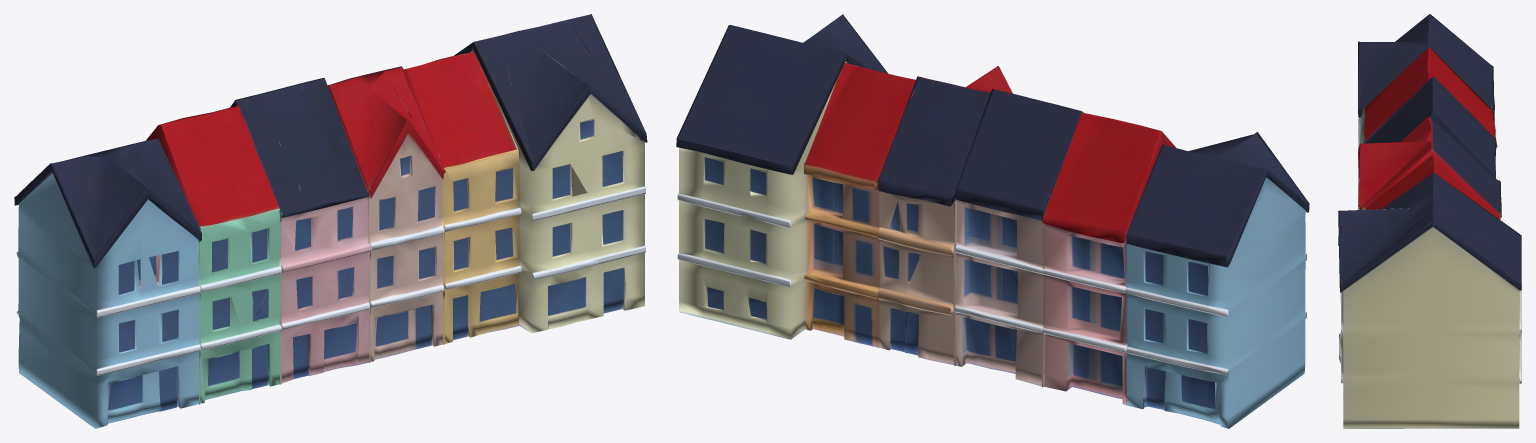
Rendered from 03-townhouses-row.glb.
The picture shows the model from 3 angles, left to right: view 1: azimuth 30°, elevation 25°; view 2: azimuth 150°, elevation 25°; view 3: azimuth 270°, elevation 25°; orthographic projection. The views are drawn at different scales.
Parts seen in each view (by area): view 1: geometry_0; view 2: geometry_0; view 3: geometry_0.
Boxes of the visible parts, box(x1,y1,x2,y2) form: geometry_0: box(14, 14, 647, 428); geometry_0: box(676, 14, 1309, 428); geometry_0: box(1338, 14, 1521, 428).
Bounding box in the file's own units: 0.9536 × 0.4248 × 0.3369.
1 material, 1 textured.
